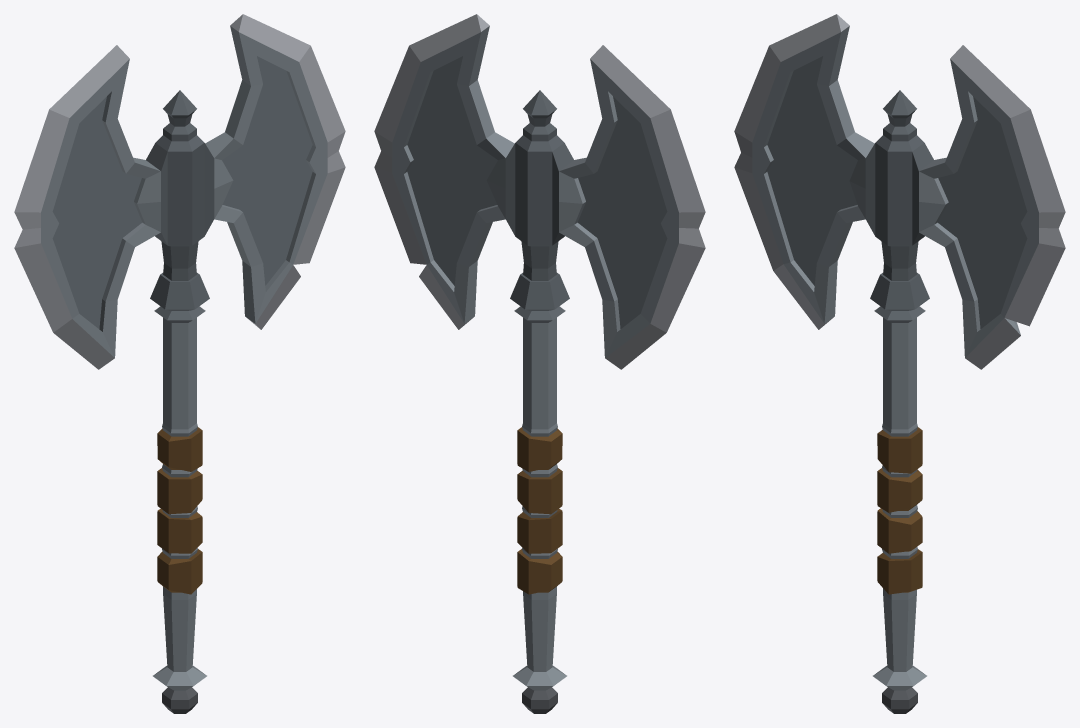
The model's file is DoubleAxe.glb.
3 views of the same model, side by side, from view 1: azimuth 30°, elevation 25°; view 2: azimuth 150°, elevation 25°; view 3: azimuth 330°, elevation 25° (orthographic).
Visible parts, largest first — view 1: DoubleAxe; view 2: DoubleAxe; view 3: DoubleAxe.
Part boxes in pixels (<box>): DoubleAxe: <box>14,14,345,713</box>; DoubleAxe: <box>374,14,705,713</box>; DoubleAxe: <box>734,14,1065,713</box>.
Bounding box in the file's own units: 15910 × 31213 × 2496.
1 material, 1 textured.
